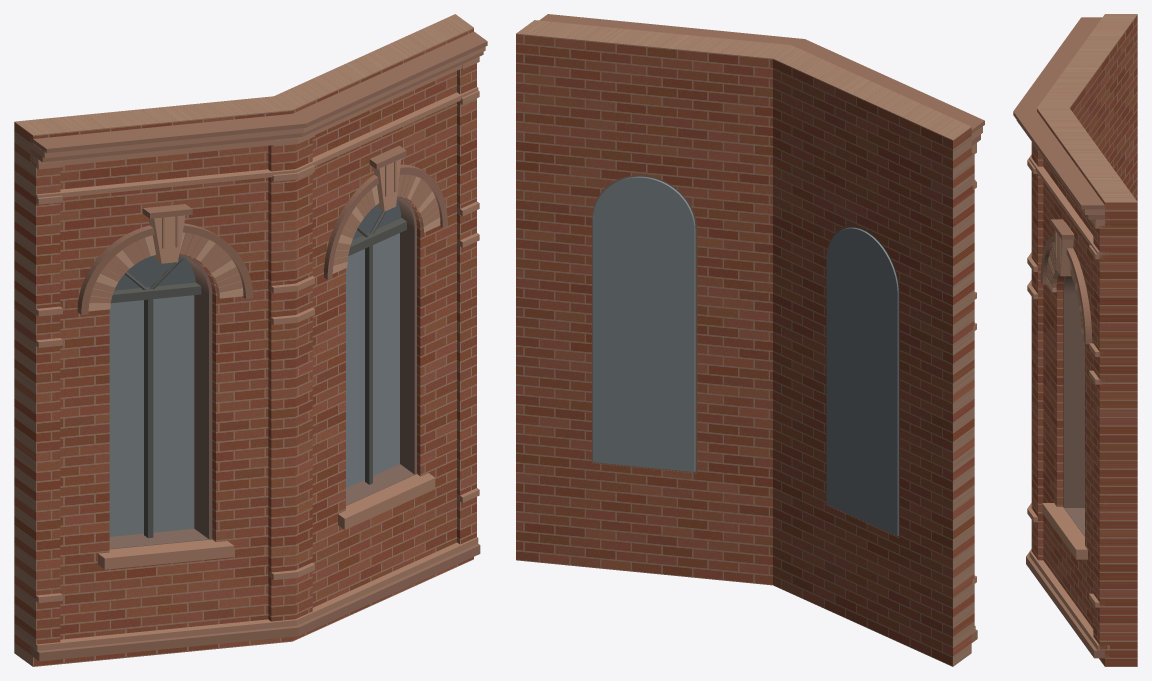
File: changzhi-135-canted-brick-arches-near.glb
3 views of the same model, side by side, from view 1: azimuth 30°, elevation 25°; view 2: azimuth 150°, elevation 25°; view 3: azimuth 270°, elevation 25° (orthographic). The views are drawn at different scales.
Parts seen in each view (by area): view 1: 长治路135号公寓转角砖券窗与楔形券心石; view 2: 长治路135号公寓转角砖券窗与楔形券心石; view 3: 长治路135号公寓转角砖券窗与楔形券心石.
Boxes of the visible parts, left/top/right/bottom form: 长治路135号公寓转角砖券窗与楔形券心石: left=14, top=14, right=487, bottom=666; 长治路135号公寓转角砖券窗与楔形券心石: left=516, top=14, right=984, bottom=666; 长治路135号公寓转角砖券窗与楔形券心石: left=1013, top=14, right=1137, bottom=666.
Size of the model in its own units: 3.67 by 4.23 by 1.03.
Materials: 9 (1 with a texture image).
